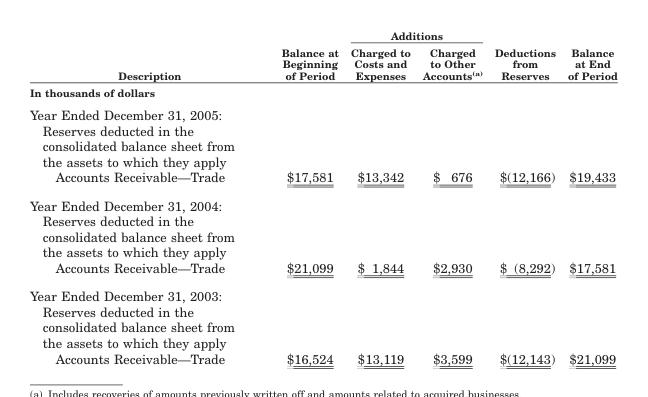table: (28, 28, 616, 365)
table column: (28, 28, 252, 365), (252, 28, 343, 365), (487, 28, 560, 365), (343, 28, 415, 365), (415, 28, 487, 365), (560, 28, 616, 365)
table column header: (28, 28, 616, 83)
table projected row header: (28, 190, 616, 259), (28, 281, 616, 350), (28, 102, 616, 168), (28, 83, 616, 102)
table row: (28, 190, 616, 259), (28, 281, 616, 350), (28, 102, 616, 168), (28, 43, 616, 83), (28, 168, 616, 190), (28, 259, 616, 281), (28, 83, 616, 102), (28, 28, 616, 43), (28, 350, 616, 365)
table spanning cell: (28, 28, 252, 83), (252, 28, 343, 83), (487, 28, 560, 83), (560, 28, 616, 83), (343, 28, 487, 43)
